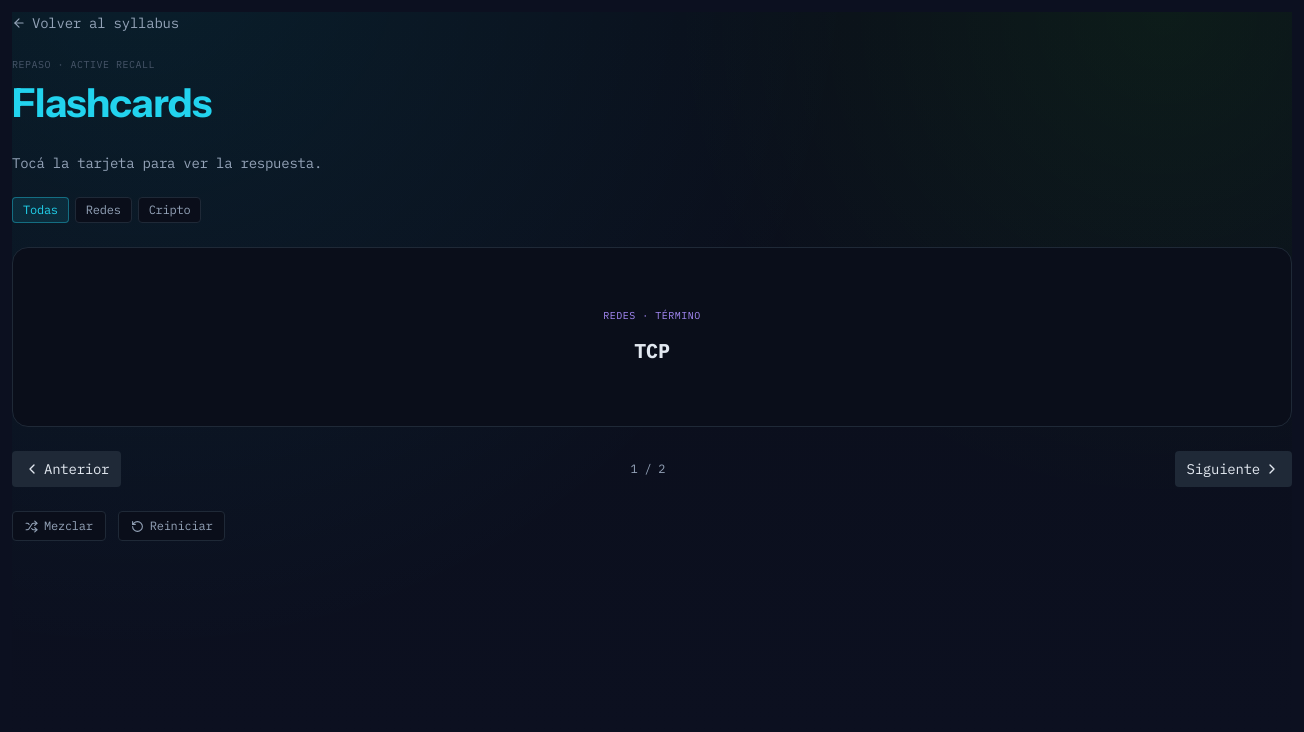
Test: FlashcardDeck › voltea la tarjeta al hacer click (term → respuesta)
Expected: the text "Fiable con handshake" is not shown
What coordinates should you click on to do the following:
click the button with aria-label "Ver respuesta"
I would click on:
 (652, 337)
Its box is [12,247,1292,427].
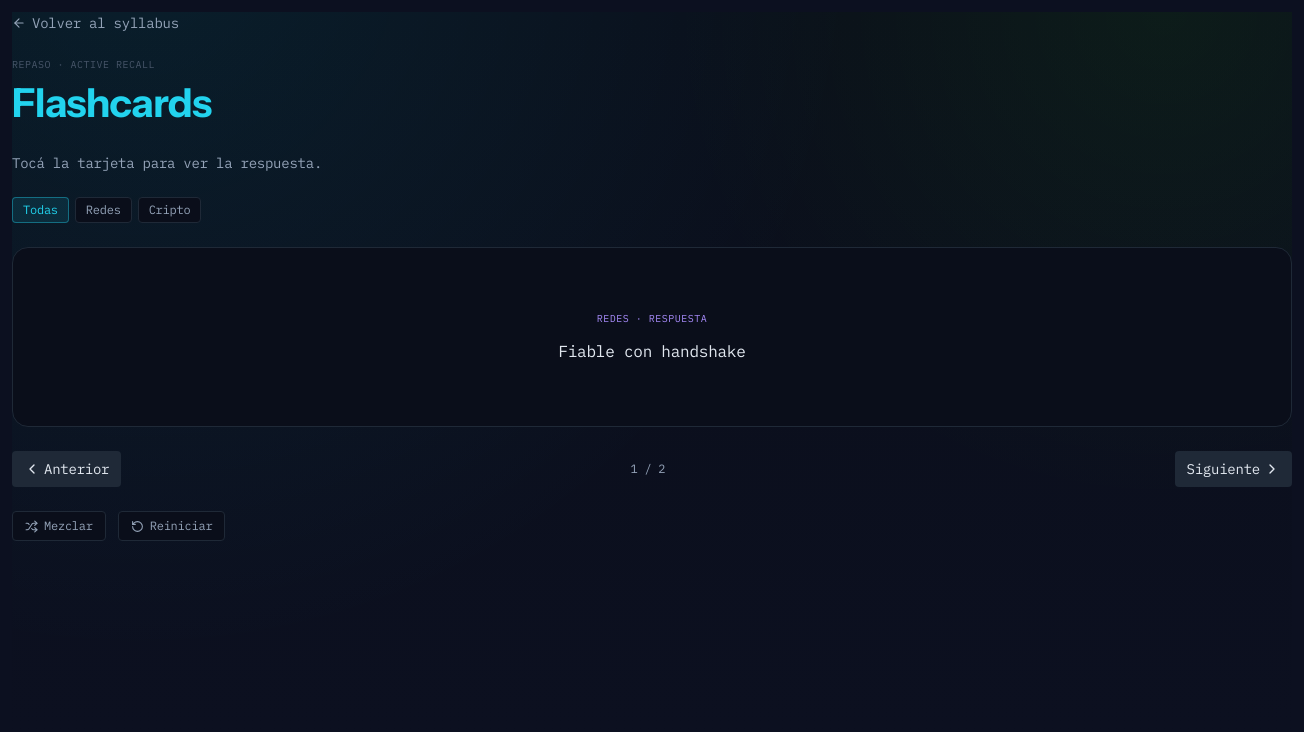
Expected: the text "Fiable con handshake" is shown, [558,338,746,364]
